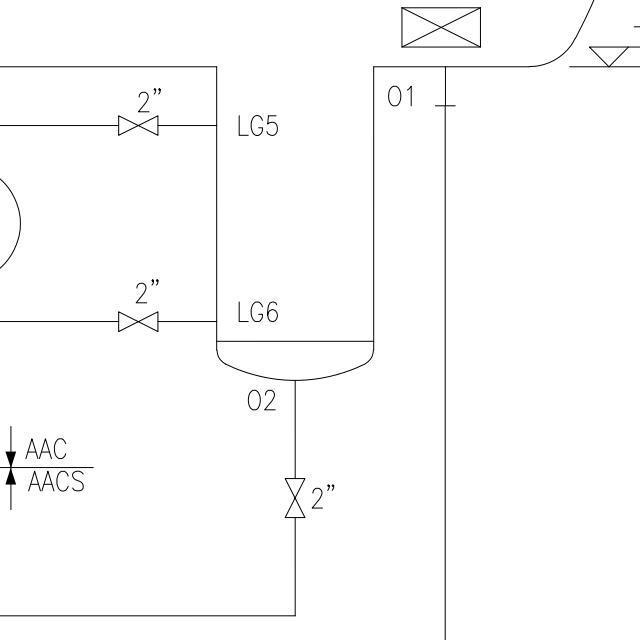GV: (115, 110, 163, 142), (113, 305, 162, 335), (280, 473, 310, 522)
